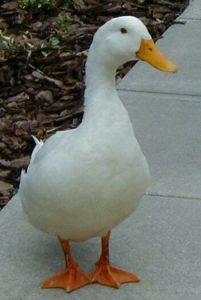Mencari Makan di Lumpur: (131, 37, 179, 76)
